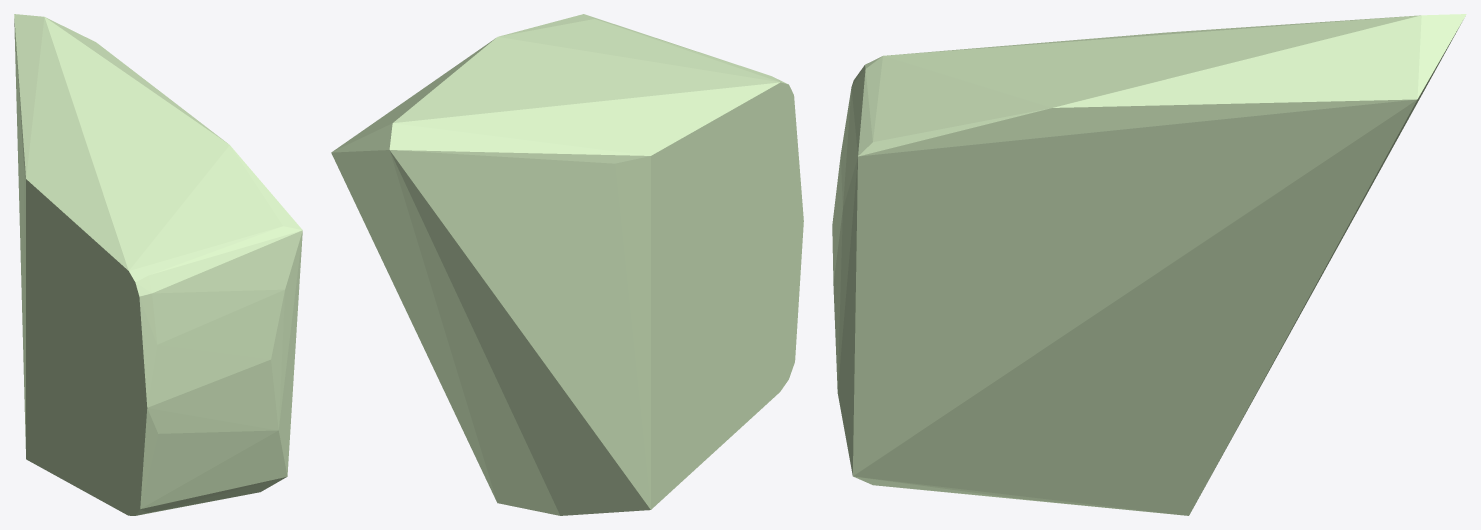
Rendered from iiwa_robot_base_coll_16.obj.
3 renders of one model, left to right at view 1: azimuth 30°, elevation 25°; view 2: azimuth 150°, elevation 25°; view 3: azimuth 270°, elevation 25°, orthographic. The views are drawn at different scales.
Visible parts, largest first — view 1: node; view 2: node; view 3: node.
Boxes of the visible parts, x1,y1,x2,y2 form: node: (14, 14, 302, 515); node: (331, 14, 803, 515); node: (832, 14, 1466, 515).
Size of the model in its own units: 0.0629 by 0.1322 by 0.1522.
